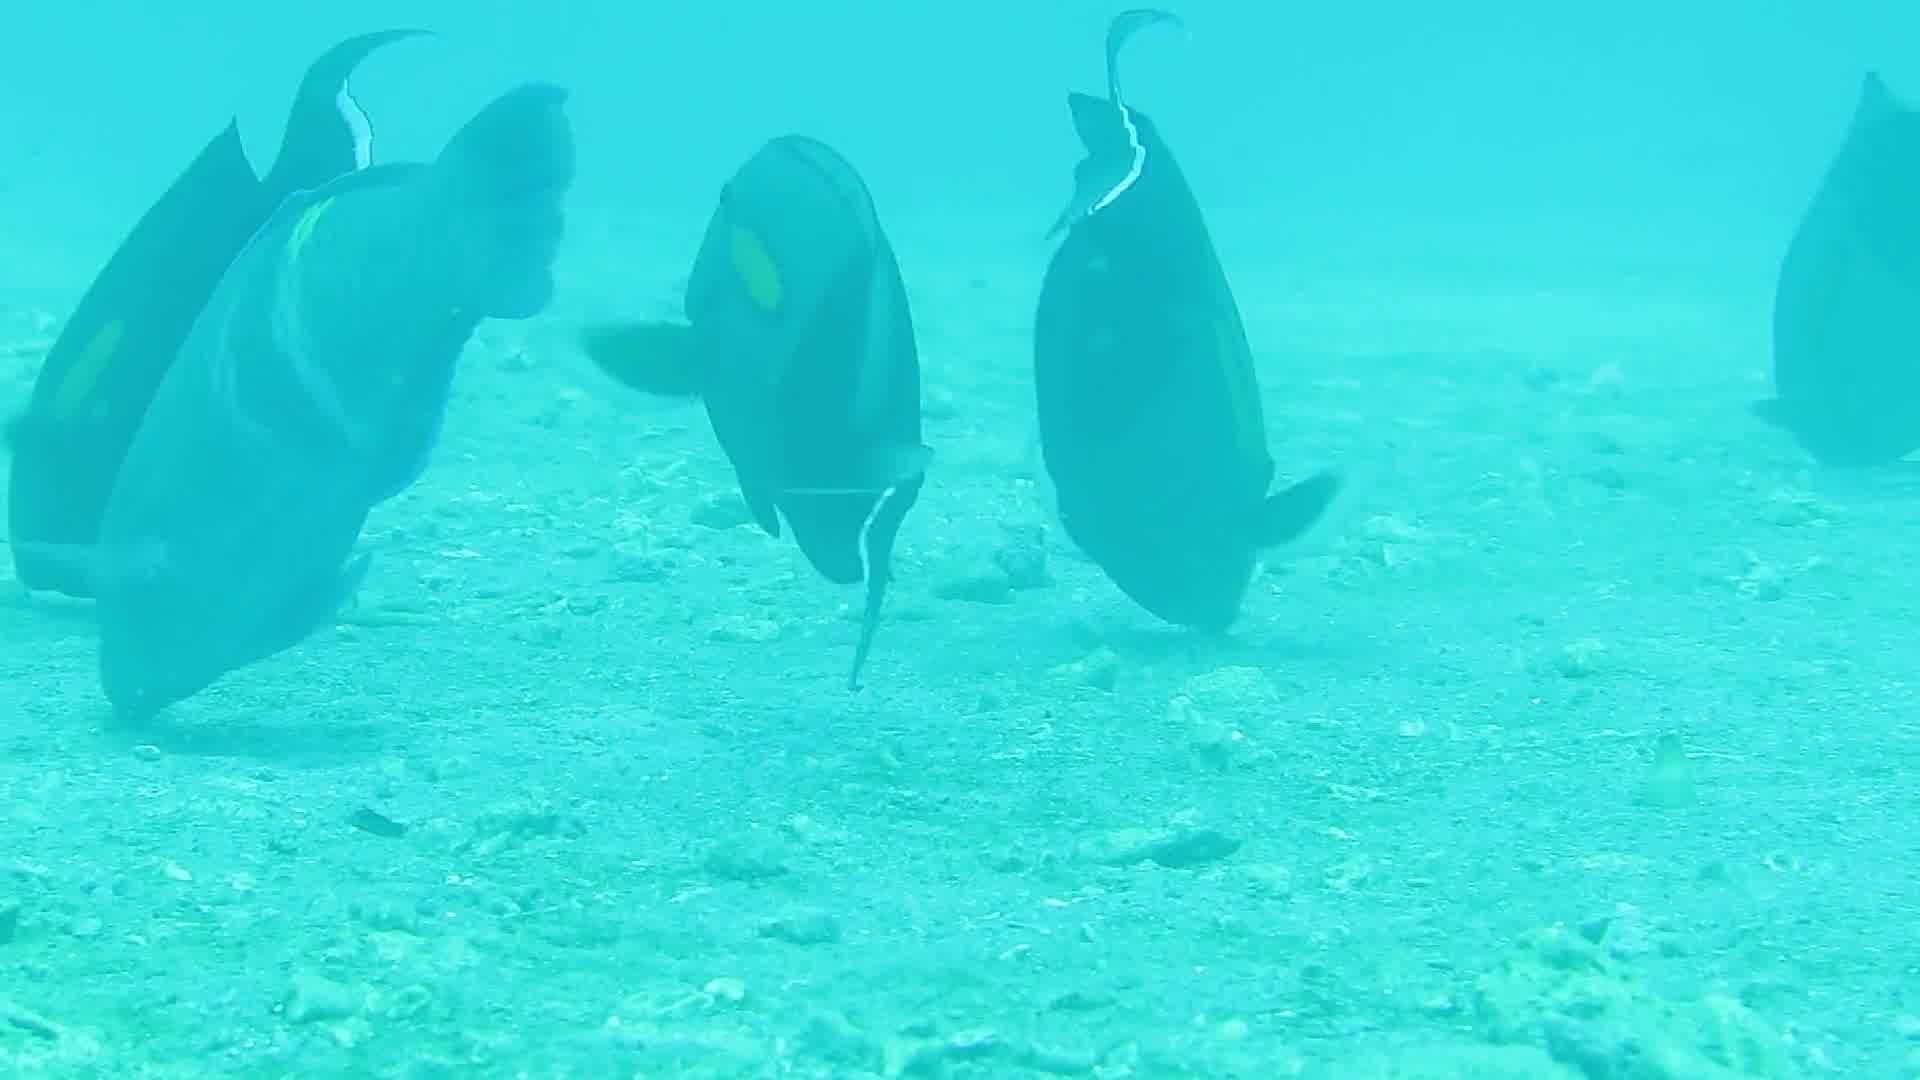Acanthurus olivaceus: (98, 111, 551, 705), (975, 88, 1354, 661), (582, 96, 960, 669), (1764, 1, 1920, 537)
